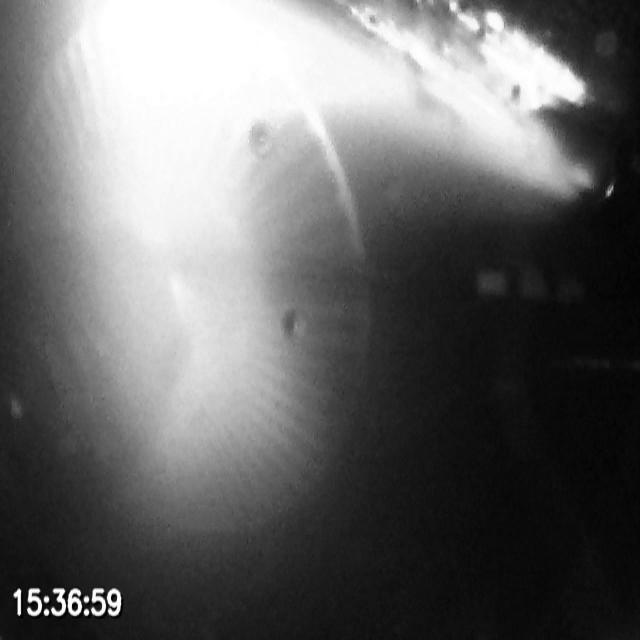white-dots: (472, 264, 588, 306)
